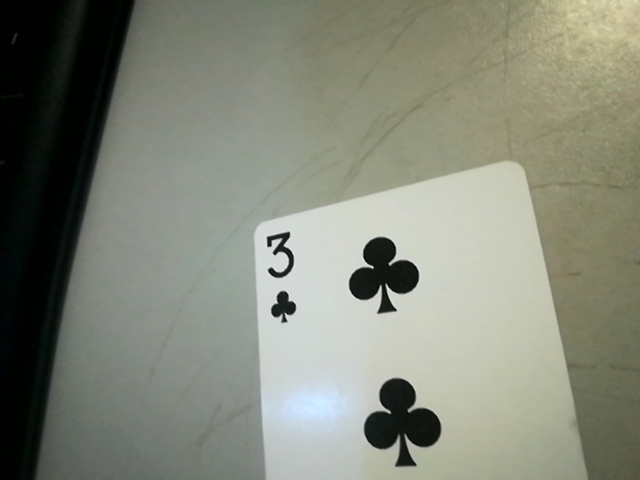mh 3: (251, 224, 303, 328)
